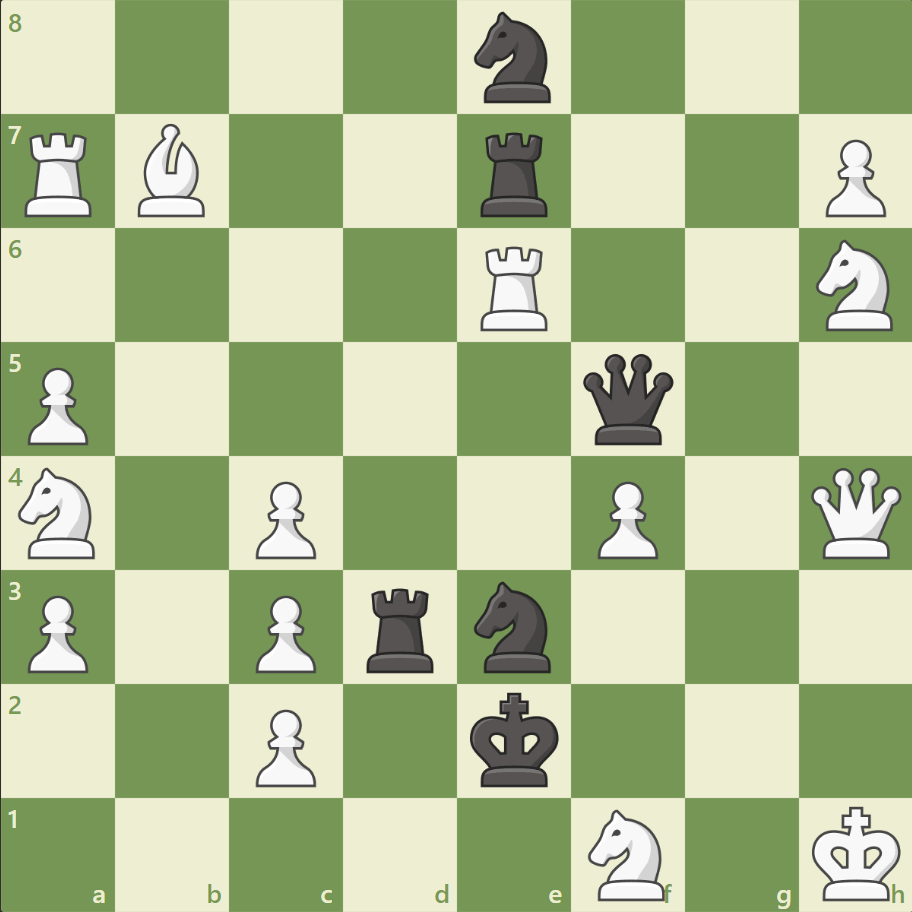B: (131, 120, 215, 222)
K: (806, 798, 906, 906)
N: (806, 234, 903, 337), (11, 461, 108, 564), (579, 802, 676, 904)
P: (20, 359, 95, 450), (247, 473, 322, 564), (20, 586, 95, 677), (247, 586, 322, 677), (247, 700, 322, 791), (815, 132, 889, 223), (588, 473, 662, 564)
Q: (805, 463, 904, 562)
R: (19, 125, 102, 222), (473, 239, 556, 336)
k: (465, 685, 565, 793)
n: (465, 7, 562, 110), (465, 575, 562, 677)
q: (578, 349, 677, 449)
r: (473, 125, 556, 222), (360, 579, 442, 676)
